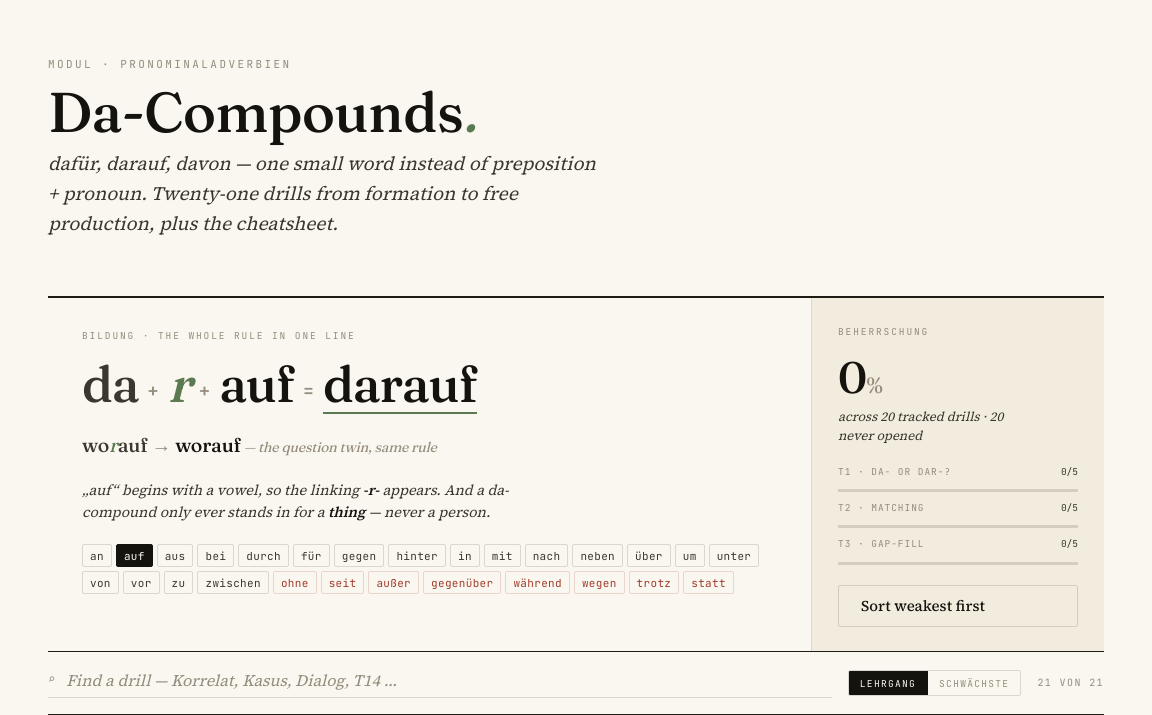
Test: DaCompoundsHome › matches on drill code too, and clearing the search restores all 21 rows
The image size is (1152, 715).
Type "T14" into the field labelled "⌕".
click(448, 680); type("T14")  # box [64,668,832,692]
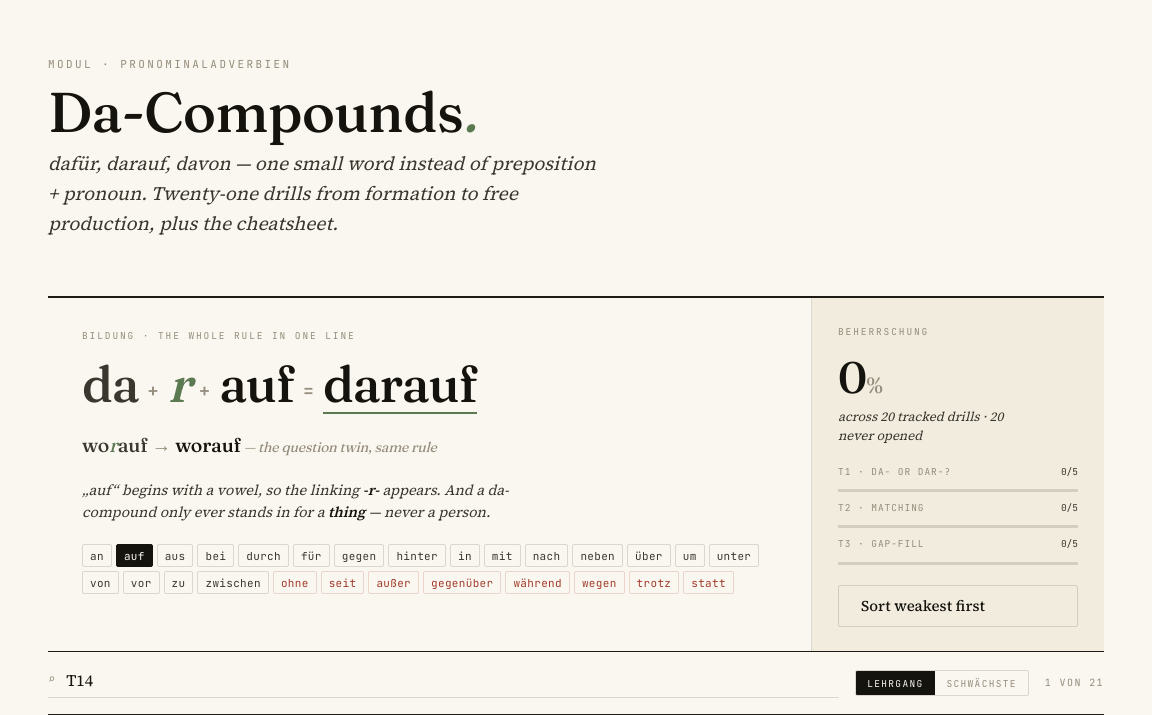
Clear the field labelled "⌕" at (452, 680), box [64,668,839,692]
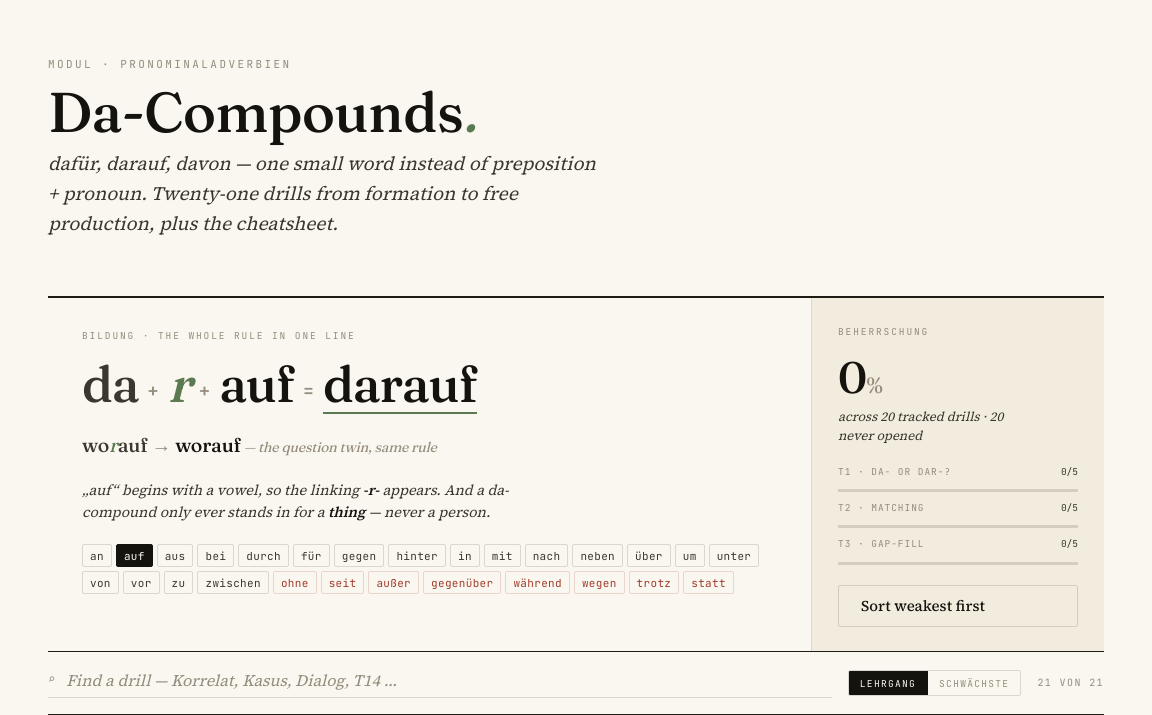
Check: the text with class "dac-count" reads "21 von 21", box [1037,676,1104,688]
